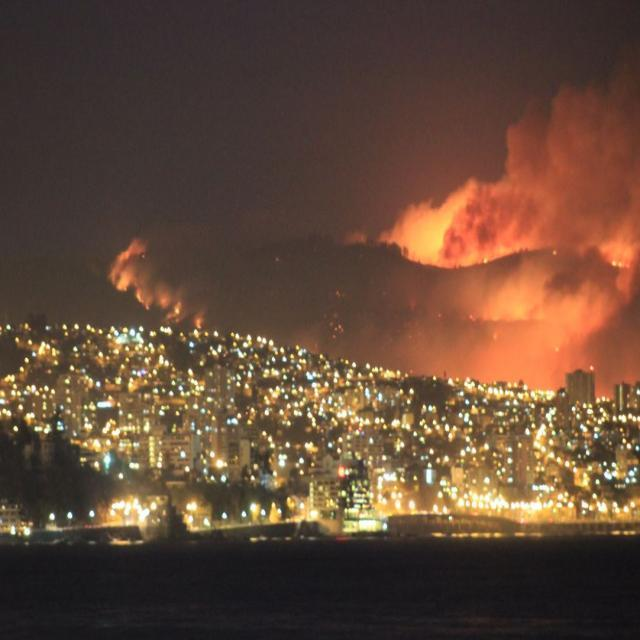Fire: (104, 233, 154, 309), (157, 284, 182, 322), (611, 256, 624, 268), (194, 315, 201, 328)
